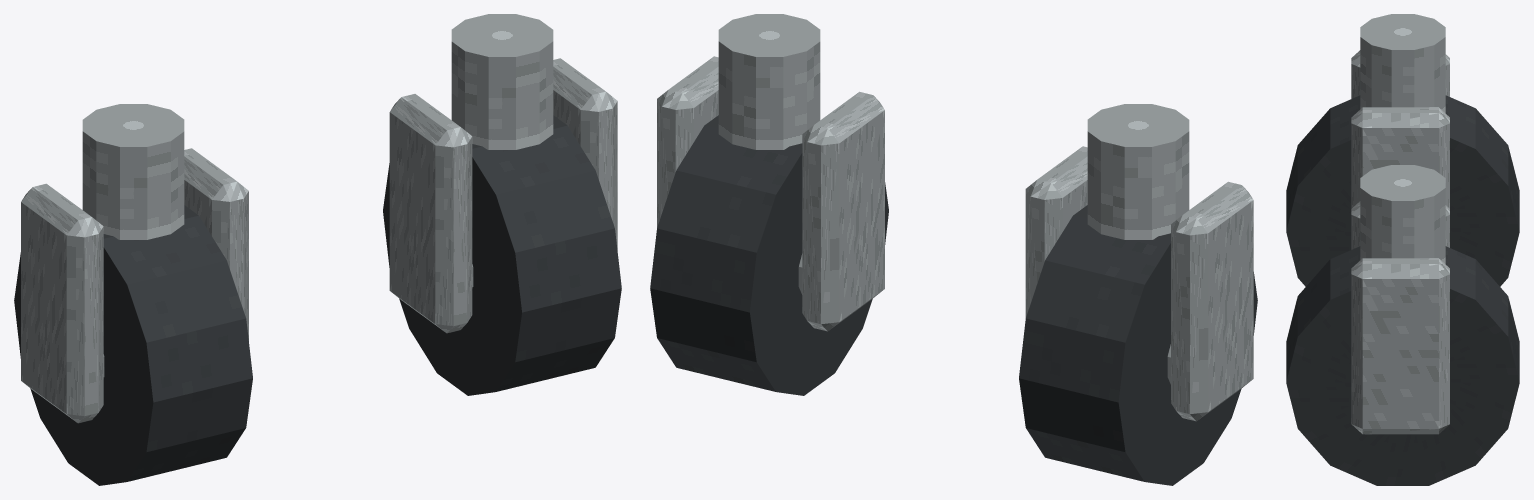
File: wheel_caster_large.glb
The picture shows the model from 3 angles, left to right: view 1: azimuth 30°, elevation 25°; view 2: azimuth 150°, elevation 25°; view 3: azimuth 270°, elevation 25°; orthographic projection. The views are drawn at different scales.
Visible parts, largest first — view 1: block_caster wheel (×2), block_swivel yoke (×4), block_pivot stem (×2); view 2: block_caster wheel (×2), block_swivel yoke (×4), block_pivot stem (×2); view 3: block_caster wheel (×2), block_swivel yoke (×4), block_pivot stem (×2).
Boxes of the visible parts, x1,y1,x2,y2 form: block_caster wheel (×2): (14, 115, 621, 485); block_swivel yoke (×4): (21, 58, 617, 423); block_pivot stem (×2): (82, 14, 553, 239); block_caster wheel (×2): (650, 115, 1257, 485); block_swivel yoke (×4): (657, 56, 1253, 421); block_pivot stem (×2): (718, 14, 1189, 239); block_caster wheel (×2): (1286, 95, 1519, 485); block_swivel yoke (×4): (1351, 50, 1449, 434); block_pivot stem (×2): (1360, 14, 1445, 263).
Bounding box in the file's own units: 0.19 × 0.111 × 0.0831.
Materials: 1 (1 with a texture image).
